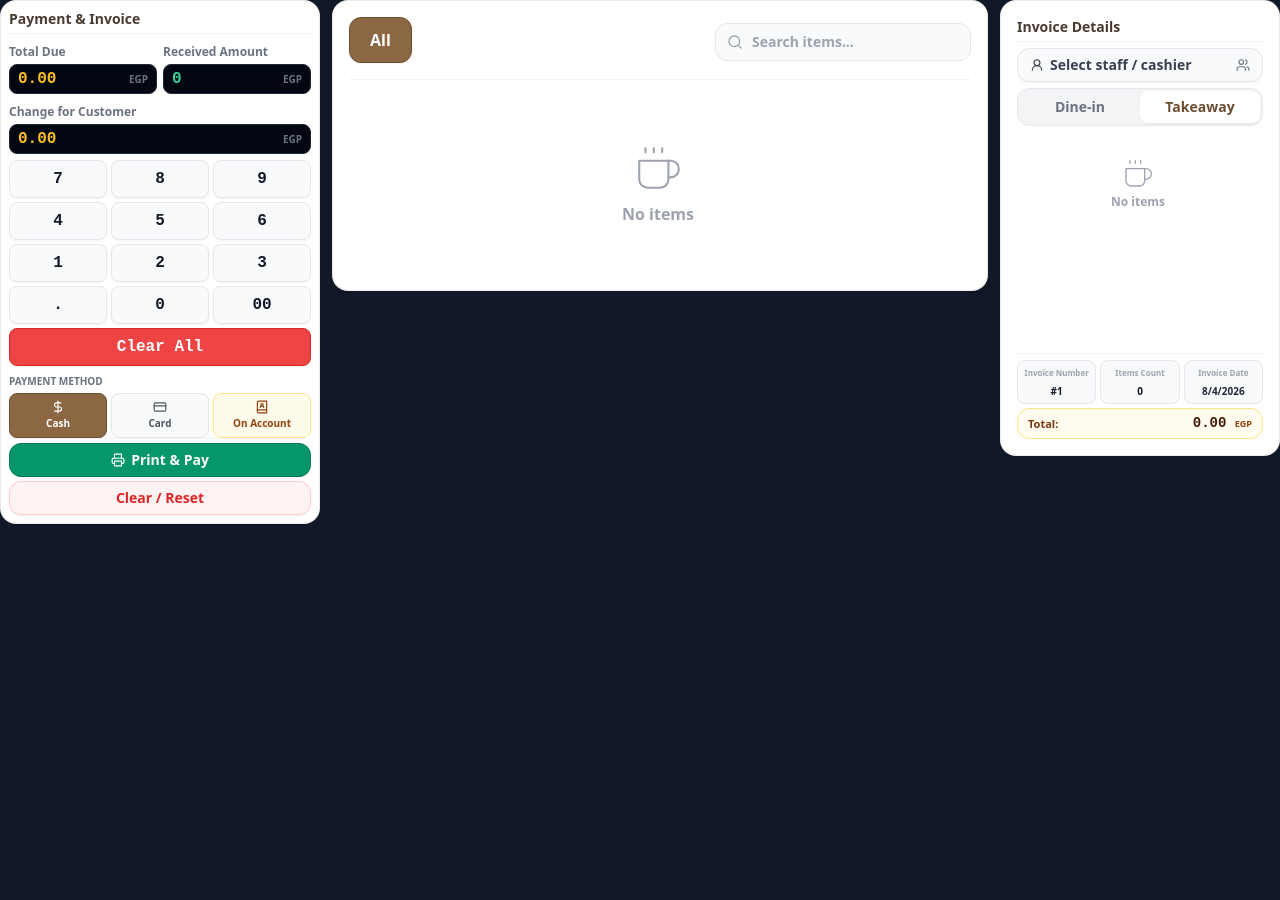
POSView durable lists — a fresh device must never overwrite the cloud › adopts the cloud lists when hydration lands, without pushing them back
# Dine-in surfaces the table chips.
What coordinates should you click on to do the following:
click the button "Dine-in"
I would click on:
 (1080, 107)
Its box is [1020,91,1140,123].
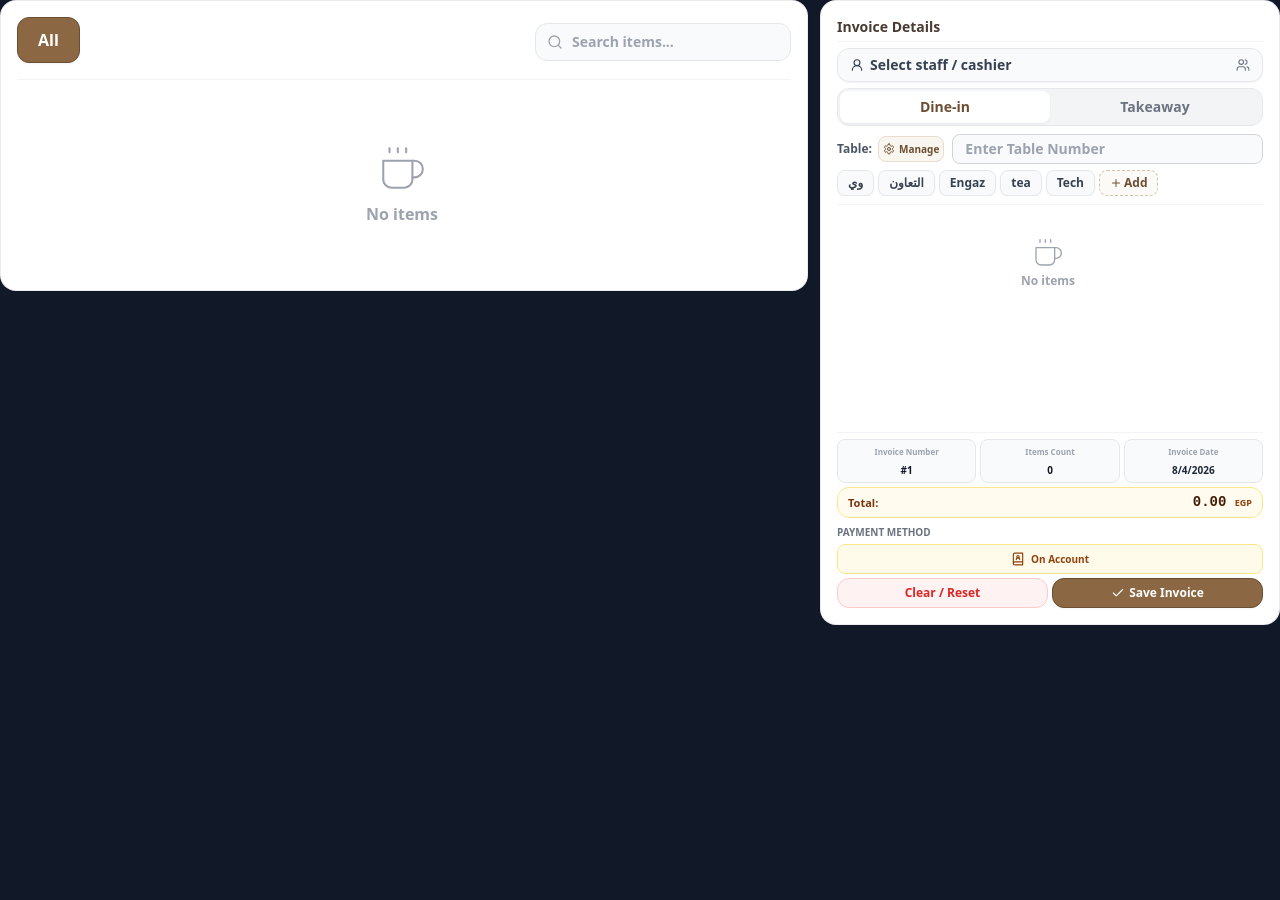
Check: the button "وي" is shown, box [837,170,874,196]
Check: the button "التعاون" is shown, box [878,170,935,196]
Check: the button "Engaz" is shown, box [939,170,996,196]
